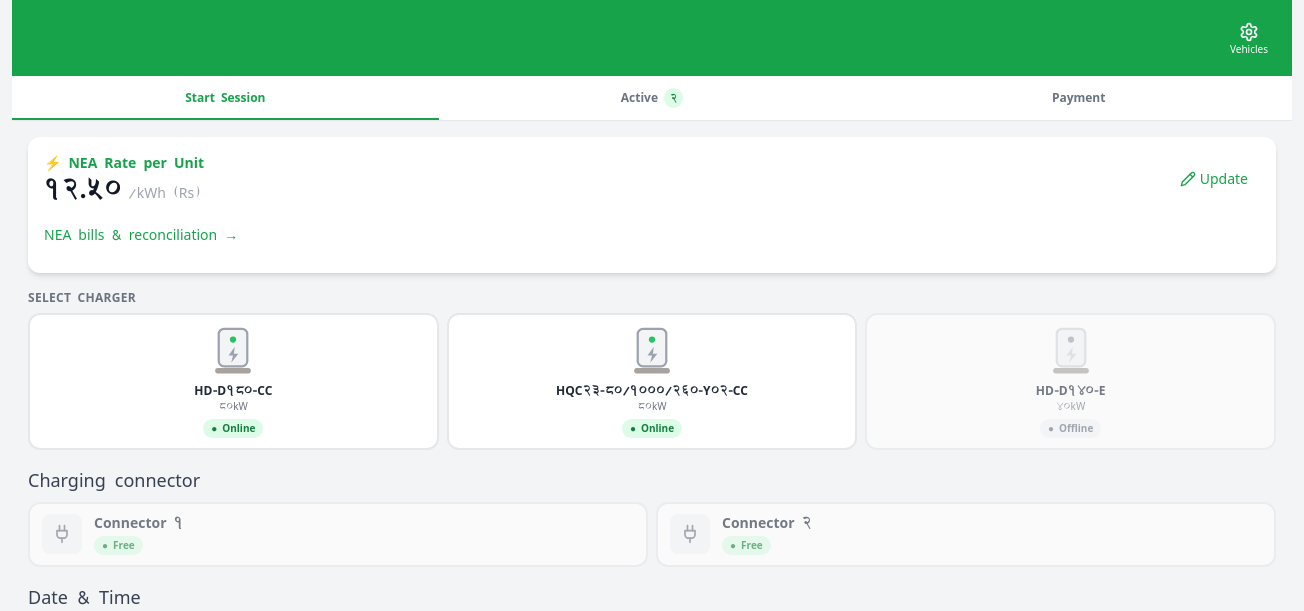
Scenario: EVEntryPage › charger selection › reports when both connectors already have open sessions
Click the radio button labelled "HD-D180-CC 80kW ● Online".
click(233, 381)  # box [28,313,439,450]
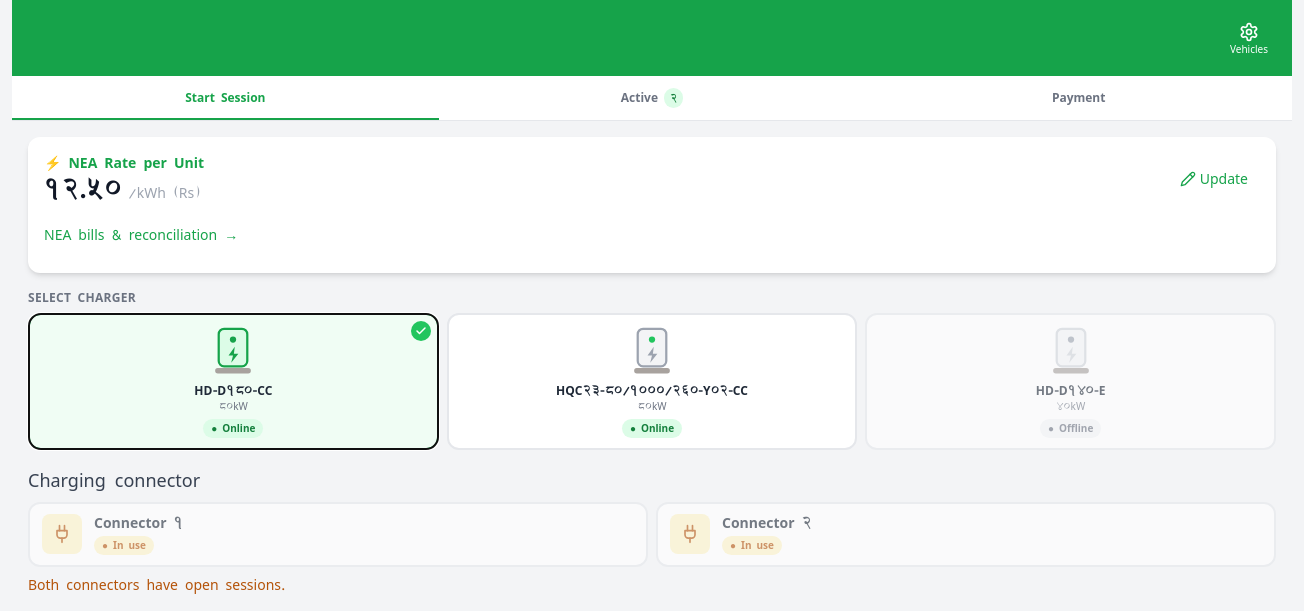
Expected: the radio button with aria-label "Connector 1, In use" is disabled, [28,502,648,567]
Expected: the text "Both connectors have open sessions." is shown, [28,573,285,596]
